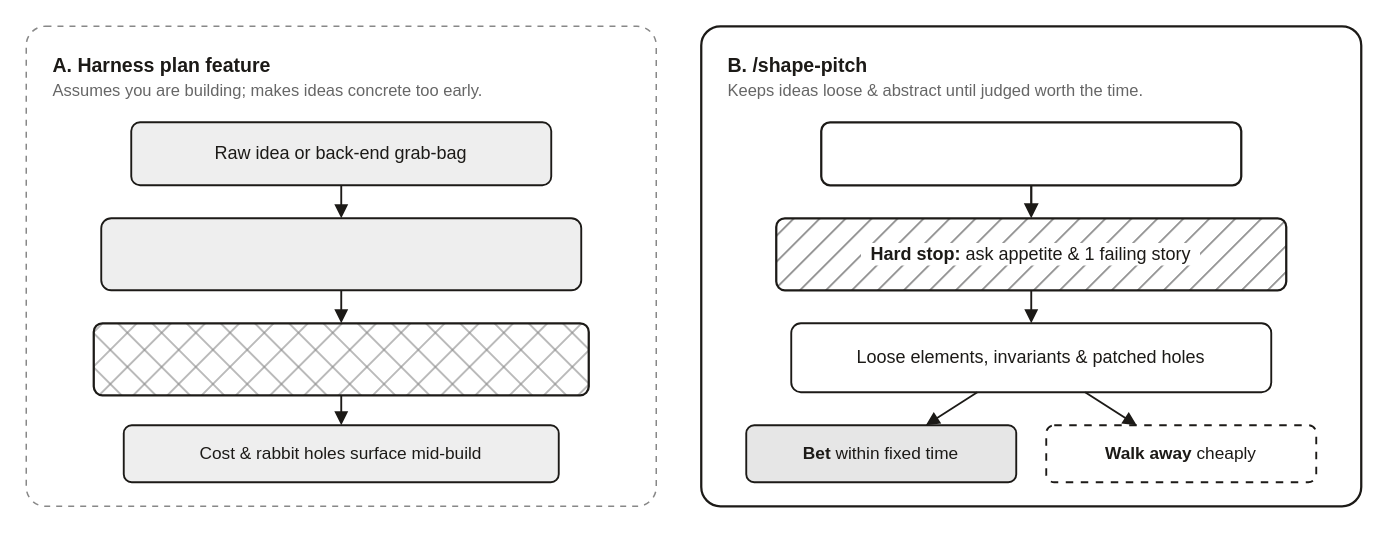
Image size: 1389x534. Some labels were removed from this diagram. Each missing label, with the box of its shape:
Decomposes files, schemas & steps invented scope & premature detail: (100, 217, 582, 291)
Raw idea, RFC, repo, or rough thought: (819, 120, 1242, 186)
Sunk-cost bias toward doing: (92, 321, 589, 396)
